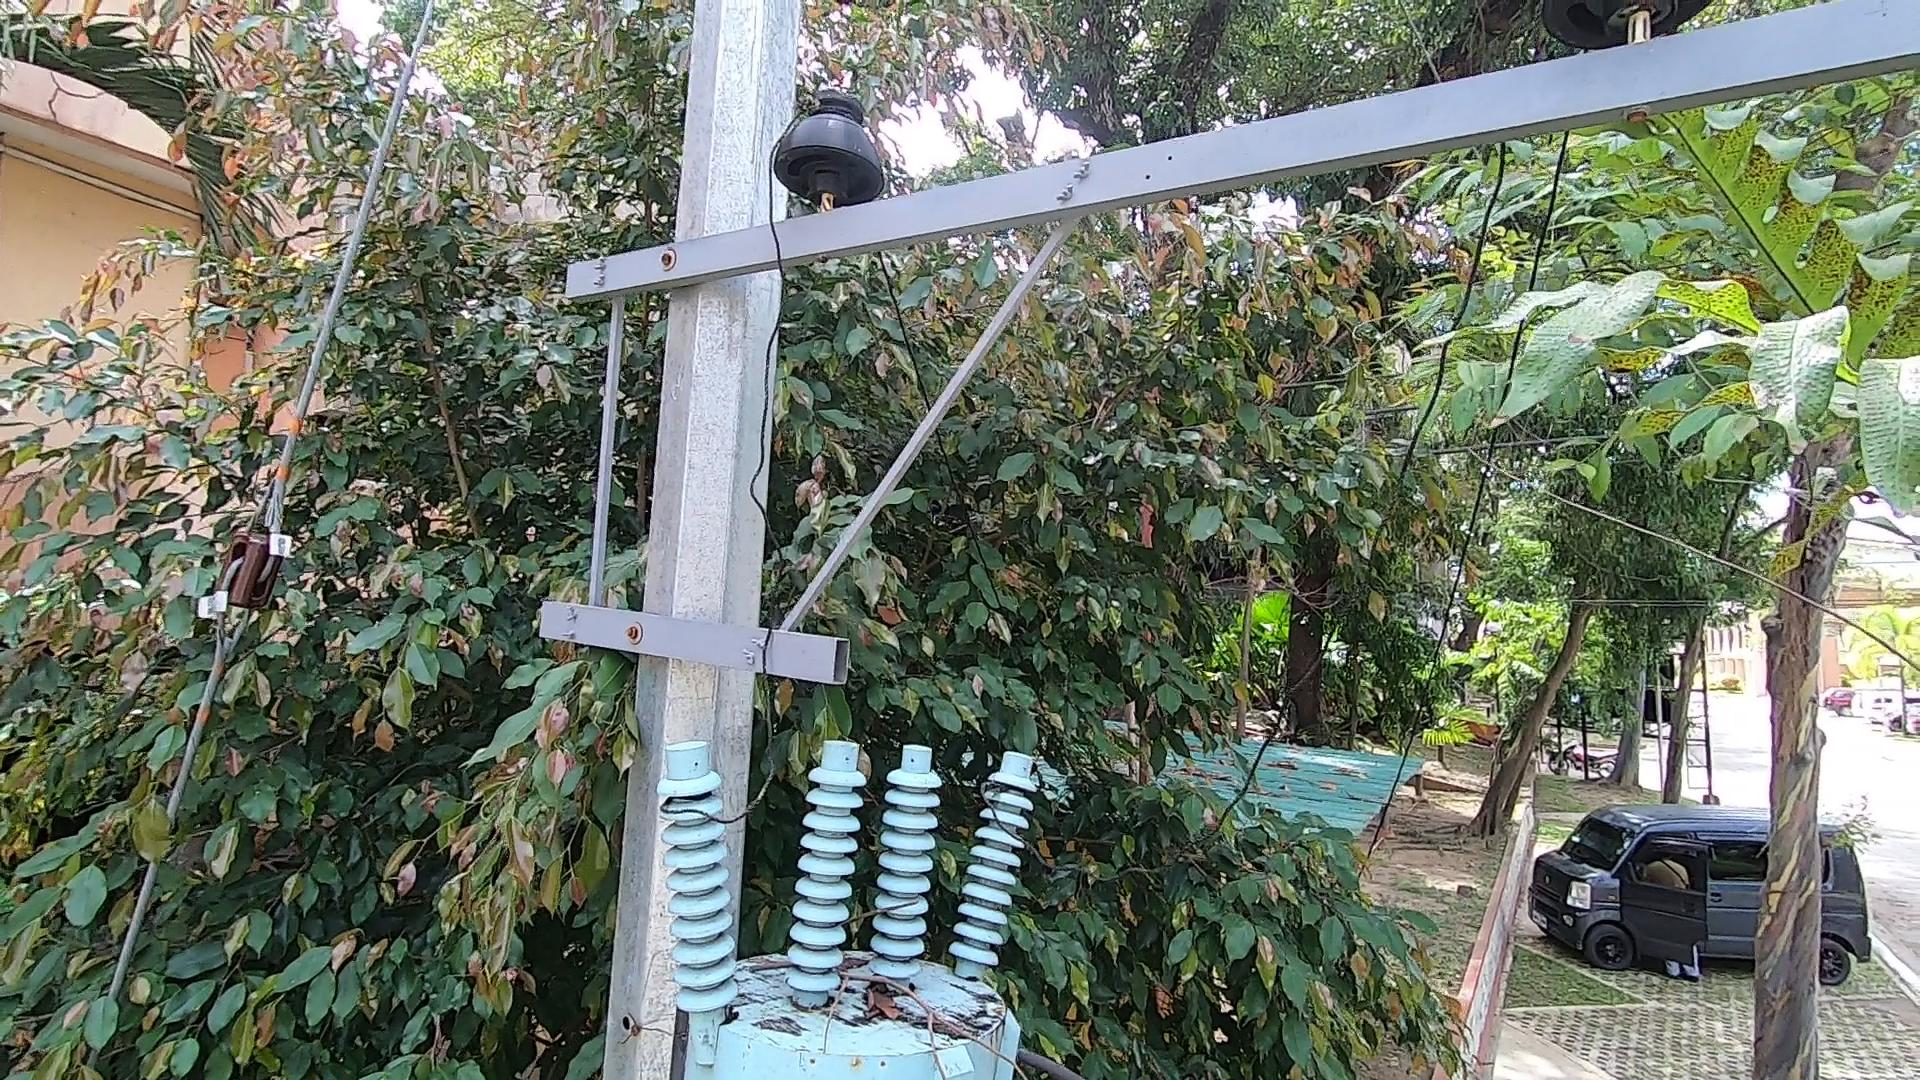leaf: (860, 971, 909, 1033), (829, 943, 887, 992)
tree branch: (738, 934, 1055, 1080)
